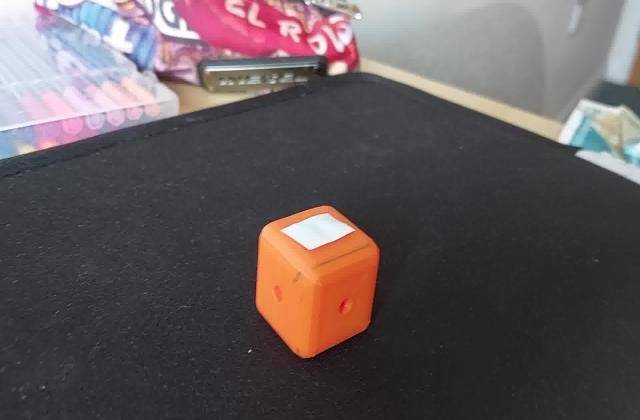cube: (252, 203, 380, 363)
white: (284, 218, 348, 255)
